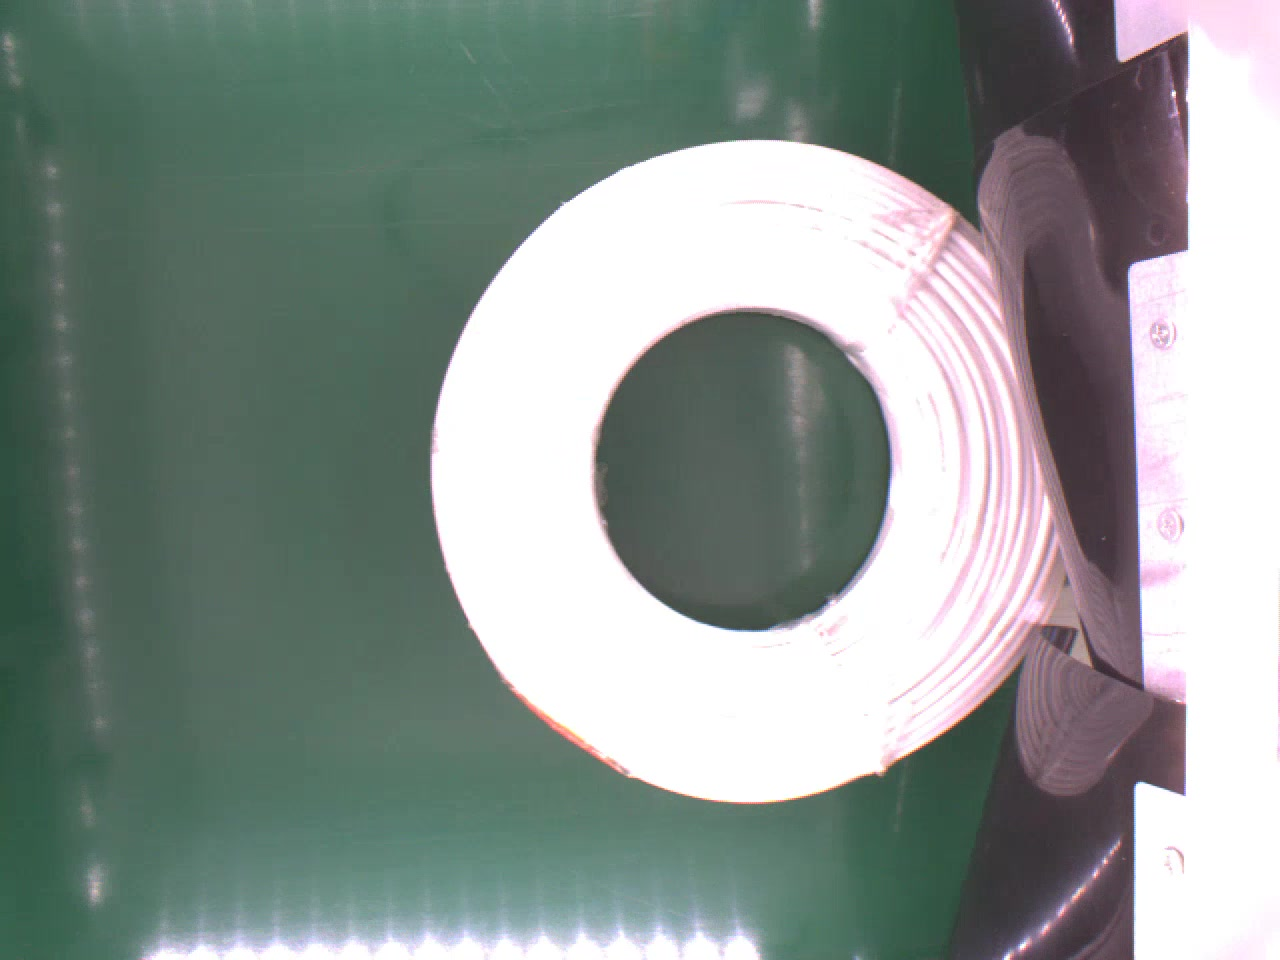white: (412, 134, 1068, 815)
